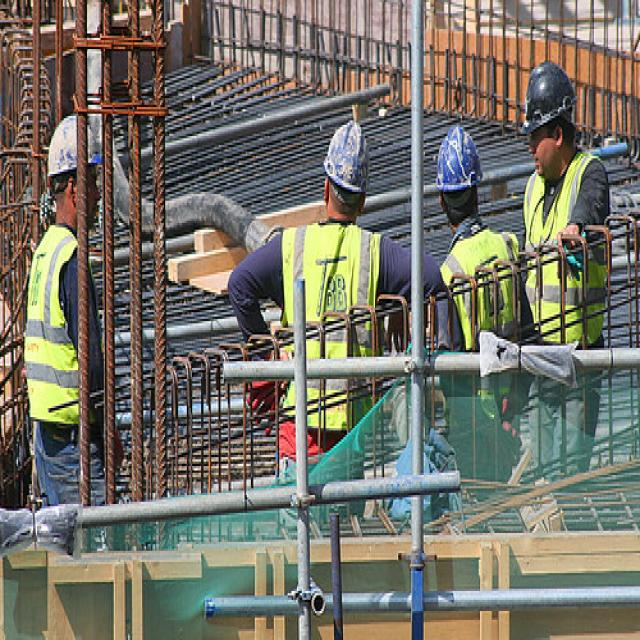Reflective-Jacket: (260, 214, 397, 442), (516, 147, 618, 406), (14, 223, 110, 446), (430, 223, 527, 439)
Safety-Helmet: (38, 107, 116, 205), (514, 51, 584, 143), (315, 109, 380, 205), (427, 116, 489, 203)
